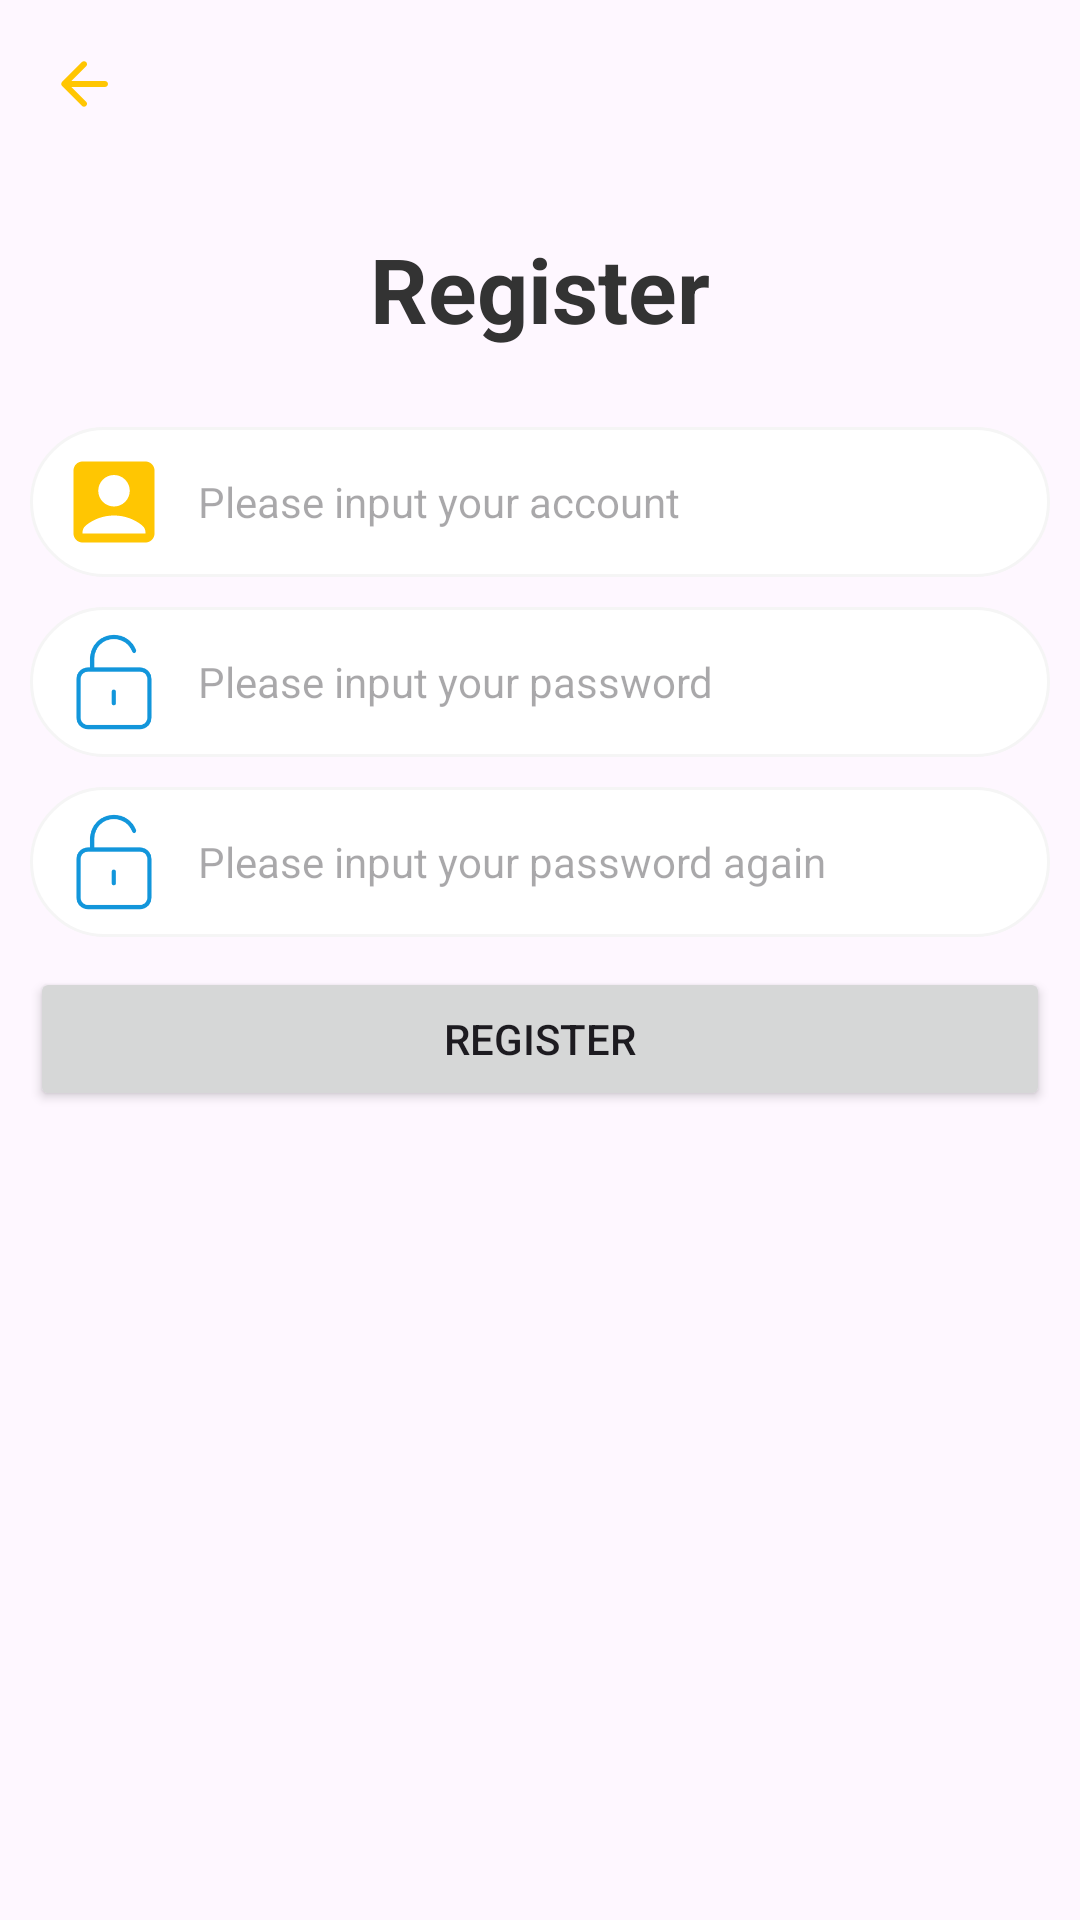

Named icons in this screenshot (1080x1920) and their bounding boxes, (x1, y1, x2, y2):
account box: (73, 461, 155, 543)
arrow back: (61, 61, 108, 107)
lock: (76, 635, 152, 730), (76, 815, 152, 910)
